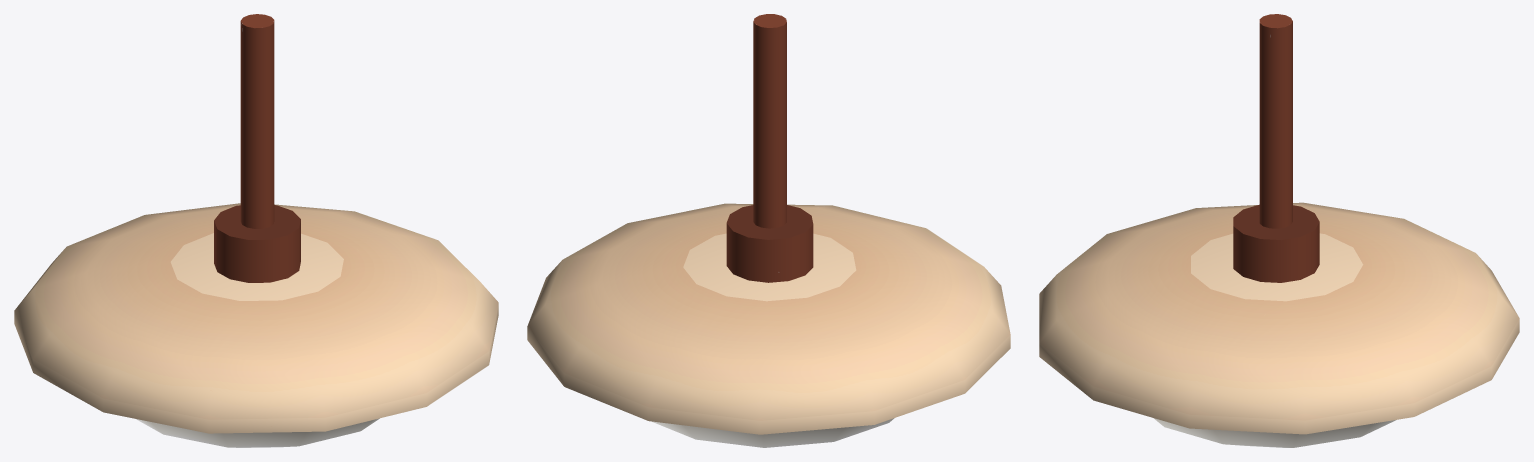
The model's file is light.glb.
3 renders of one model, left to right at view 1: azimuth 30°, elevation 25°; view 2: azimuth 150°, elevation 25°; view 3: azimuth 270°, elevation 25°, orthographic.
Parts seen in each view (by area): view 1: Cylinder.003; view 2: Cylinder.003; view 3: Cylinder.003.
Part boxes in pixels (<box>): Cylinder.003: <box>14,14,498,447</box>; Cylinder.003: <box>527,14,1010,447</box>; Cylinder.003: <box>1039,14,1519,447</box>.
Size of the model in its own units: 1.79 by 1.64 by 1.77.
Materials: 1 (1 with a texture image).
